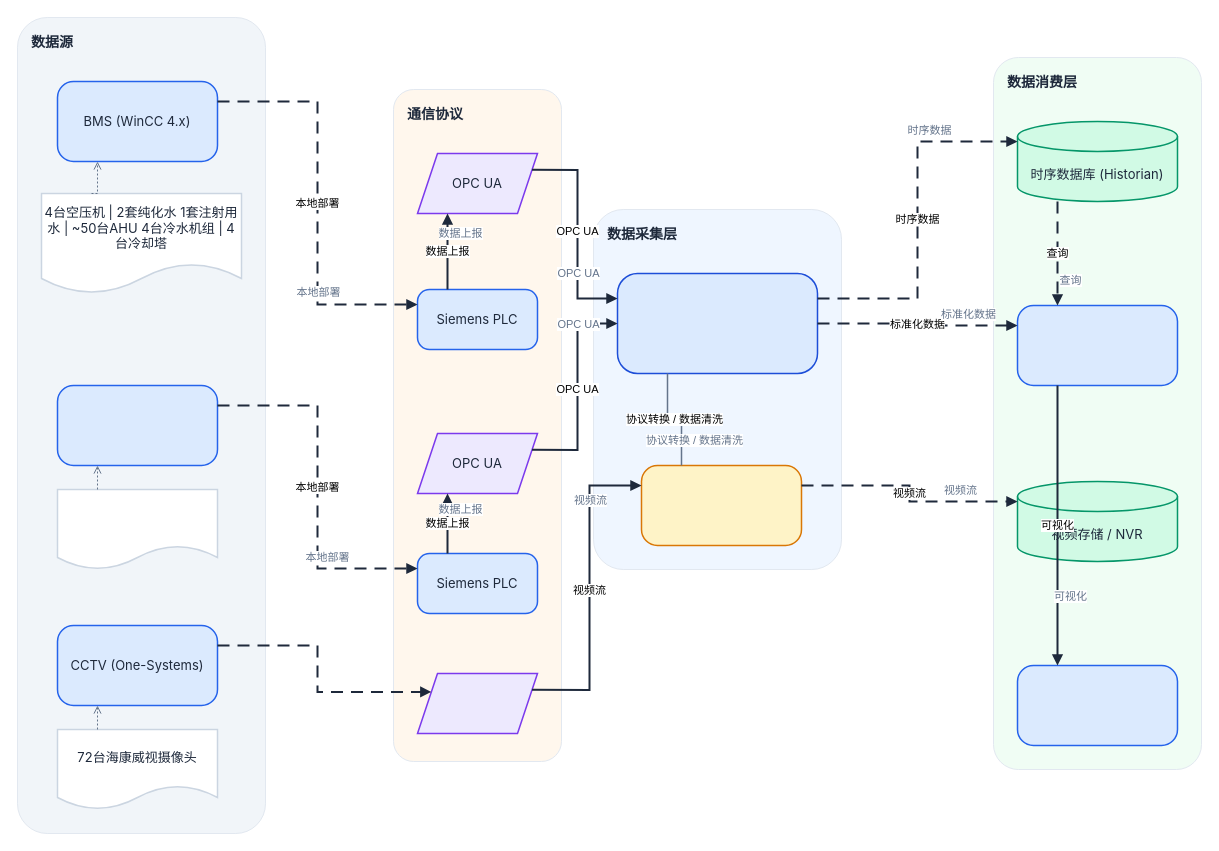
This 1219x851 diagram has some shape labels left out. The centre of each missing label's shape, as x and y in pixels:
"Apache NiFi 数据采集平台" belongs at (717,323).
"EMS (WinCC 4.x)" belongs at (137,425).
"RTSP/RTMP/API" belongs at (477,703).
"数据平台 / 中台" belongs at (1097,345).
"温湿度 | 压差 车间/设备级环境监测" belongs at (137,529).
"监控大屏 / 告警" belongs at (1097,705).
"自定义适配器" belongs at (721,505).
